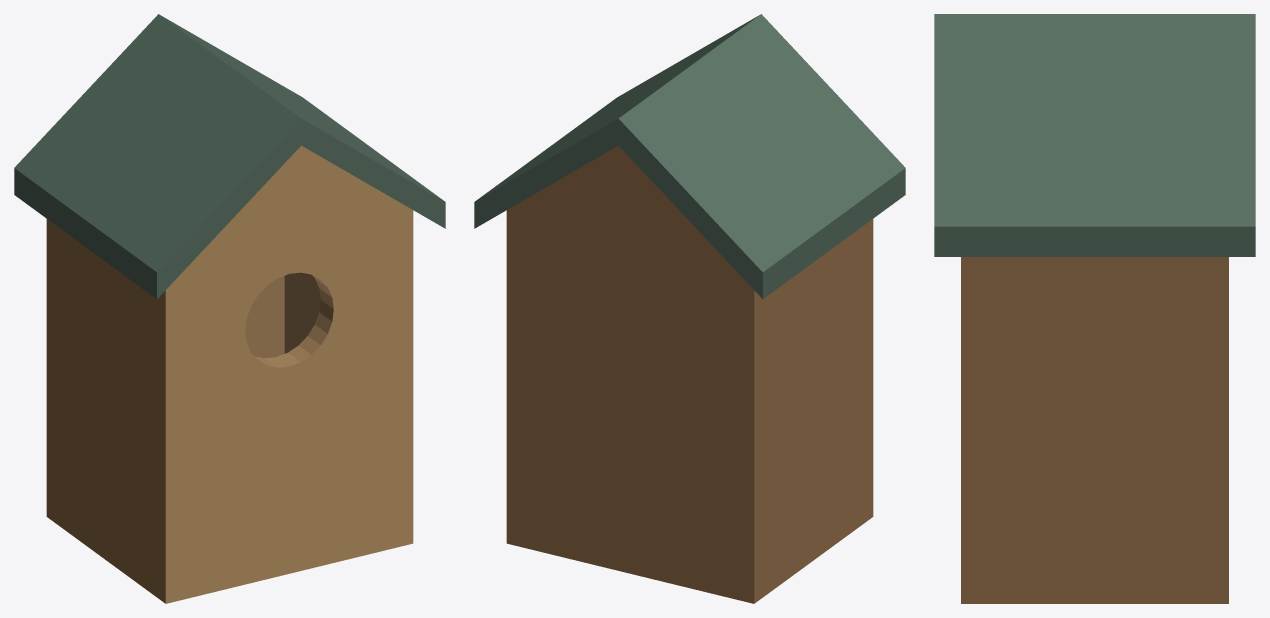
The picture shows the model from 3 angles, left to right: view 1: azimuth 30°, elevation 25°; view 2: azimuth 150°, elevation 25°; view 3: azimuth 270°, elevation 25°; orthographic projection. The views are drawn at different scales.
Visible parts, largest first — view 1: ContinuousThickWallNestingBox; view 2: ContinuousThickWallNestingBox; view 3: ContinuousThickWallNestingBox.
Part boxes in pixels (bbox=[...]): ContinuousThickWallNestingBox: bbox=[14, 14, 445, 603]; ContinuousThickWallNestingBox: bbox=[474, 14, 905, 603]; ContinuousThickWallNestingBox: bbox=[934, 14, 1255, 603].
Bounding box in the file's own units: 0.28 × 0.43 × 0.24.
